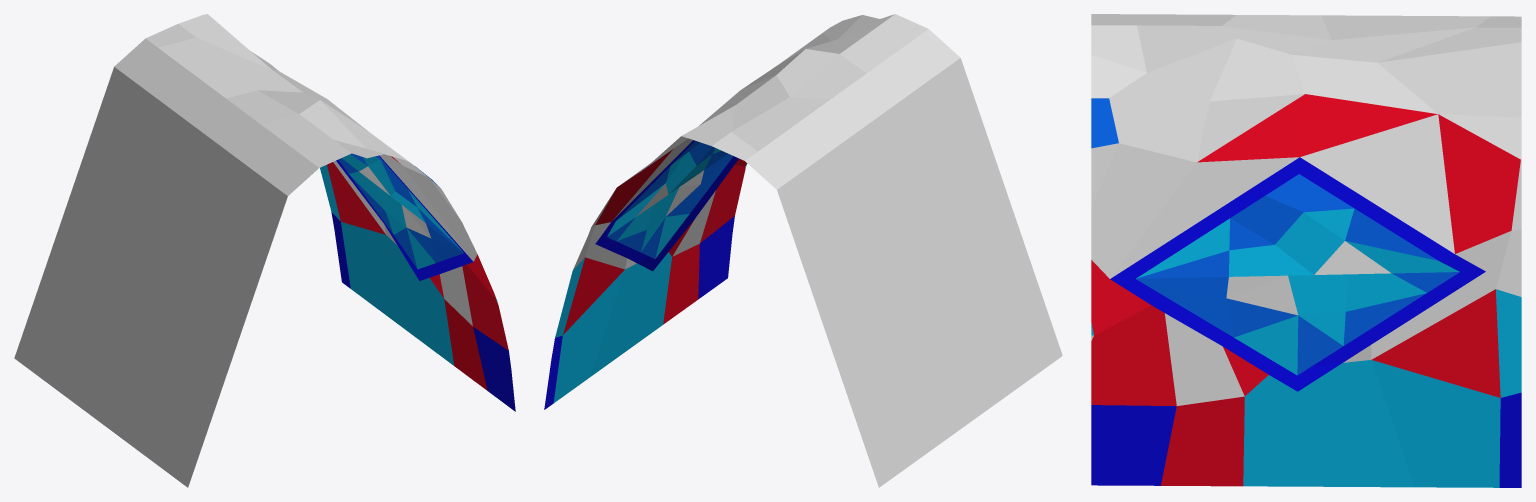
The model's file is Forma1.fbx.
3 renders of one model, left to right at view 1: azimuth 30°, elevation 25°; view 2: azimuth 150°, elevation 25°; view 3: azimuth 270°, elevation 25°, orthographic. The views are drawn at different scales.
Parts seen in each view (by area): view 1: Forma1; view 2: Forma1; view 3: Forma1.
Part boxes in pixels (x1,y1,x2,y2): Forma1: (14,14,515,487); Forma1: (544,14,1062,487); Forma1: (1091,14,1521,487).
Bounding box in the file's own units: 93.87 × 81.89 × 86.95.
